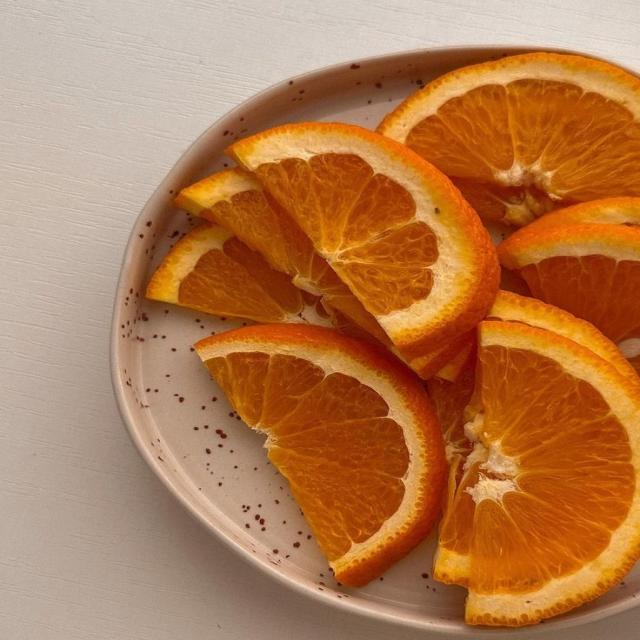orange: (227, 123, 498, 376), (195, 324, 445, 586), (440, 322, 639, 625), (378, 53, 639, 226), (174, 168, 390, 345), (147, 223, 326, 323), (499, 223, 639, 342), (427, 358, 477, 584), (529, 197, 639, 230)
